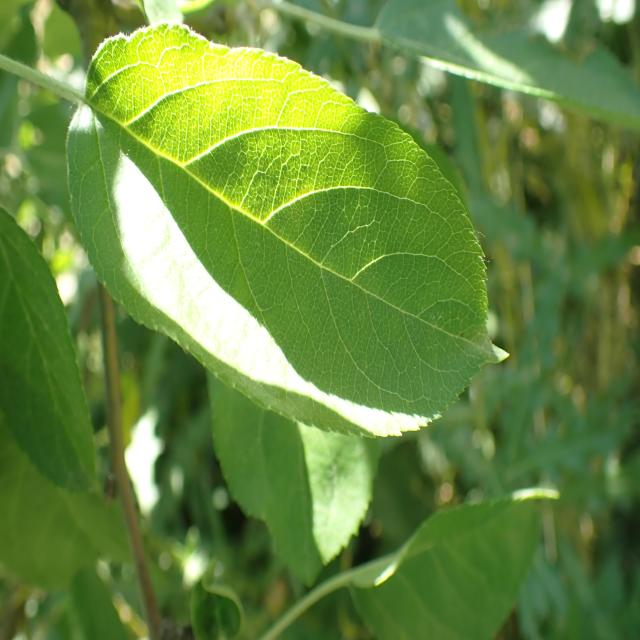healthy: (65, 22, 512, 440), (207, 368, 378, 586), (350, 486, 562, 640), (0, 205, 99, 496)
